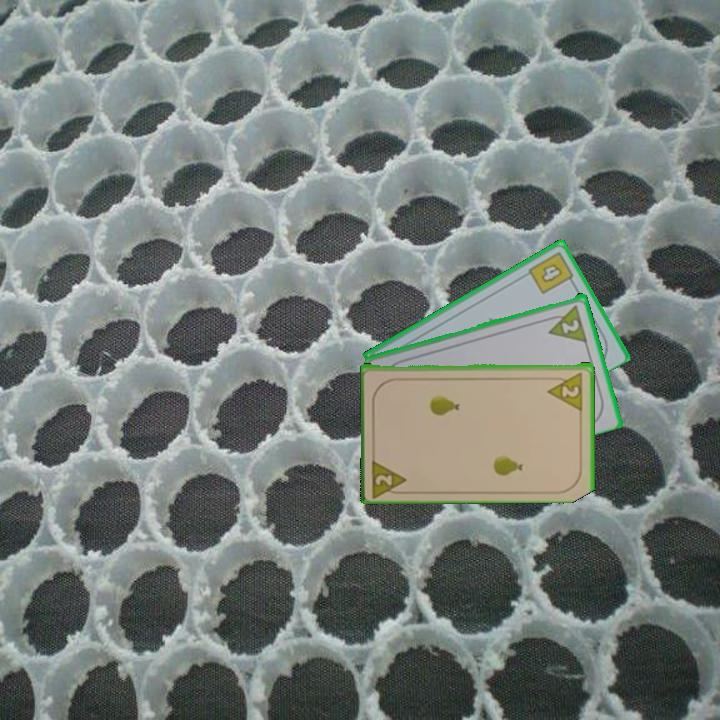2p: (368, 454, 410, 498), (545, 368, 585, 411), (558, 315, 582, 336)
4b: (525, 248, 578, 297)
